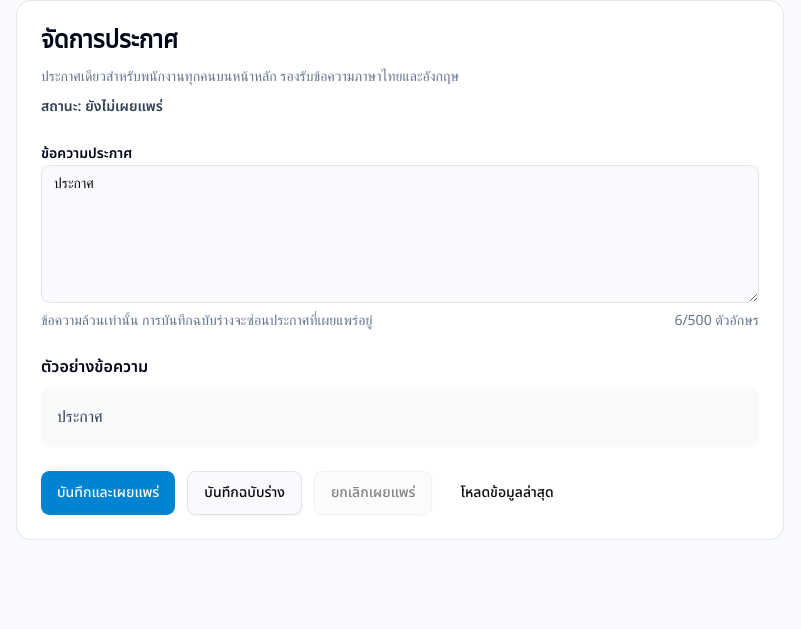
Announcement presentation › previews plain text and publishes the server version
Replace the text in the text box labelled "ข้อความประกาศ" with "<b>ข่าว</b>" at point(400, 234), box [41,165,759,303]
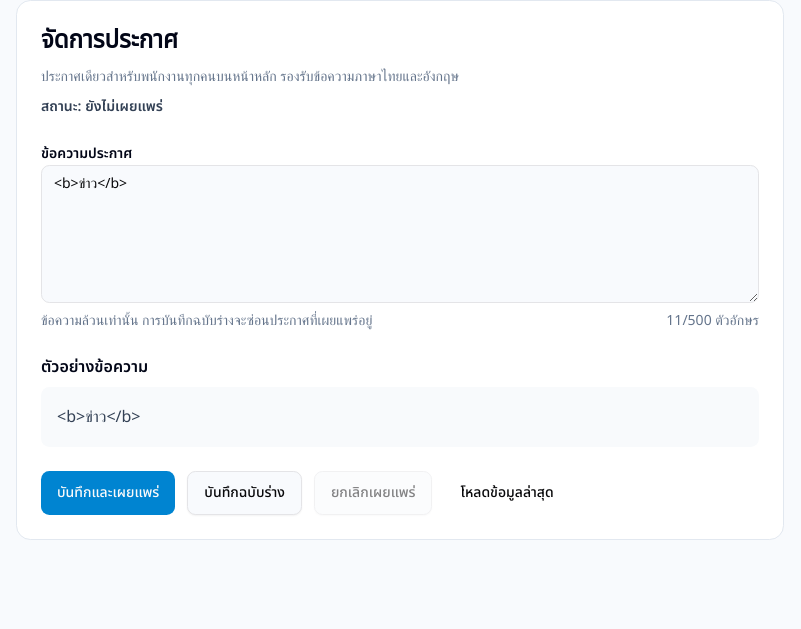
Replace the text in the text box labelled "ข้อความประกาศ" with "ข่าวใหม่" at point(400, 234), box [41,165,759,303]
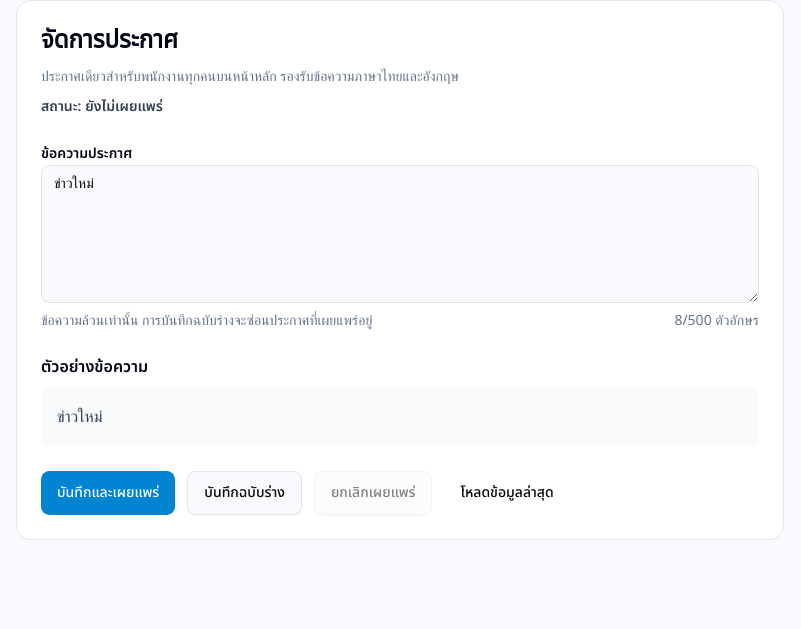
Click the button "บันทึกและเผยแพร่".
click(108, 493)  # box [41,471,175,515]
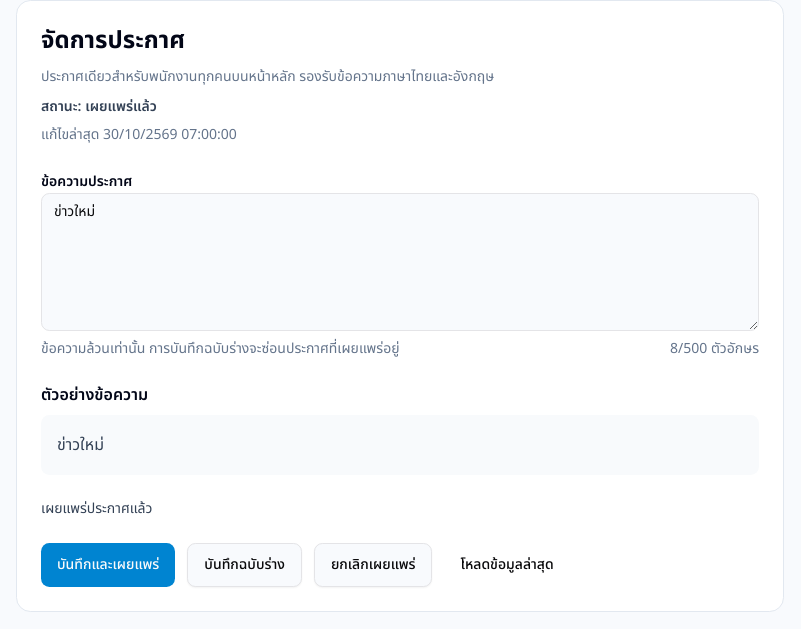
Expected: the text "เผยแพร่ประกาศแล้ว" is shown, [41,498,152,519]
